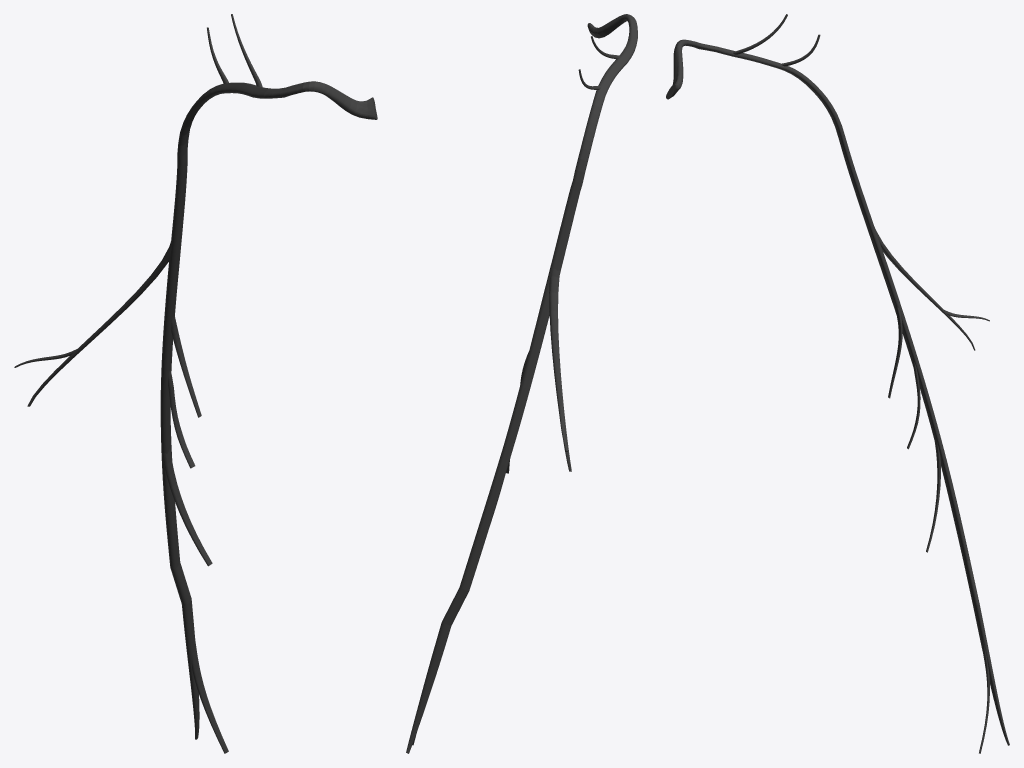
Rendered from N_12_hypoglossal.glb.
3 renders of one model, left to right at view 1: azimuth 30°, elevation 25°; view 2: azimuth 150°, elevation 25°; view 3: azimuth 270°, elevation 25°, orthographic. The views are drawn at different scales.
Parts seen in each view (by area): view 1: N_12_hypoglossal; view 2: N_12_hypoglossal; view 3: N_12_hypoglossal.
Boxes of the visible parts, x1=… form: N_12_hypoglossal: x1=14, y1=14, x2=377, y2=753; N_12_hypoglossal: x1=406, y1=14, x2=637, y2=753; N_12_hypoglossal: x1=666, y1=14, x2=1009, y2=753.
Bounding box in the file's own units: 0.0111 × 0.0433 × 0.0194.
Materials: 1 (1 with a texture image).
